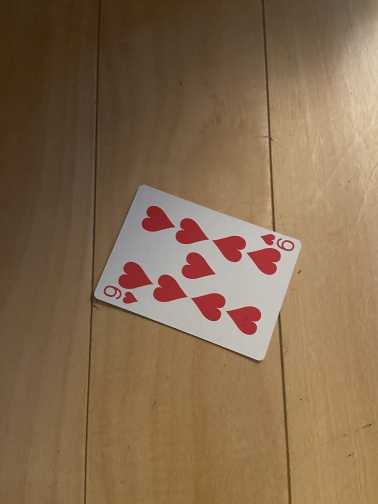nine: (93, 184, 302, 364)
